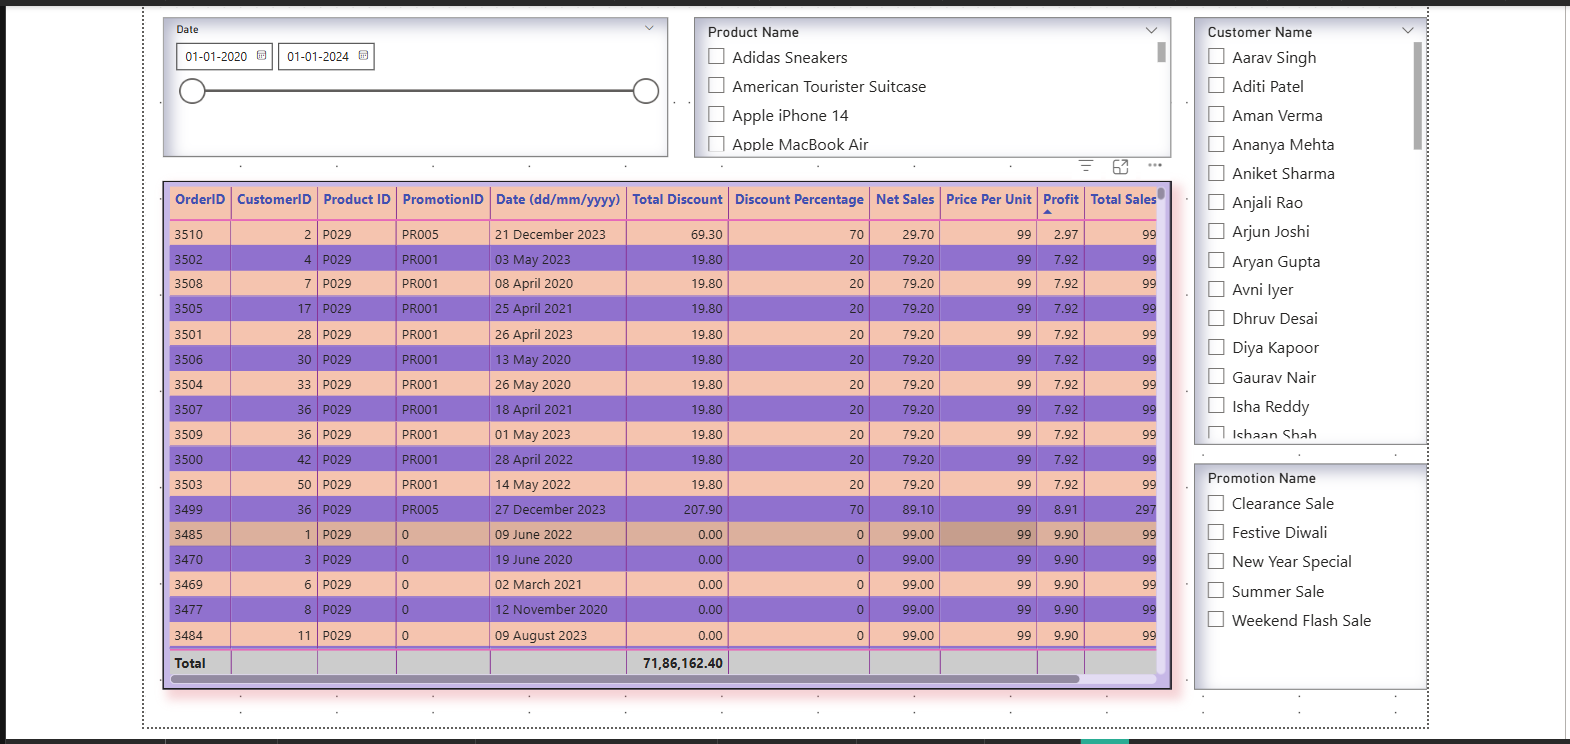

The page's visual inventory and layout, read from the dashboard file:
{"tool":"powerbi","page":{"name":"Table Chart","canvas":[1280,720],"ordinal":4},"visuals":[{"type":"tableEx","fields":{"Values":["Fact Table.OrderID","Fact Table.CustomerID","Fact Table.Product ID","Fact Table.PromotionID","Fact Table.Date (dd/mm/yyyy)","Sum(Fact Table.Discount)","Fact Table.Discount Percentage","Fact Table.Net Sales   ","Fact Table.Price Per Unit","Fact Table.Profit","Fact Table.Total Sales","Fact Table.Units Sold"]},"box":[18.7,174.5,1006.1,507.4],"z":0},{"type":"slicer","fields":{"Values":["Data Table 1.Date"]},"box":[18.1,11.1,503.7,139.1],"z":1000},{"type":"slicer","fields":{"Values":["Dim Customers.Customer Name"]},"box":[1047.3,11.2,233.1,426.4],"z":2000},{"type":"slicer","fields":{"Values":["Dim Product.Product Name"]},"box":[548.6,11.2,476.3,139.6],"z":3000},{"type":"slicer","fields":{"Values":["Dim Promotion.Promotion Name"]},"box":[1047.3,456.3,233.1,225.7],"z":4000}]}

Visuals, with their boxes on the page's 1280x720 design canvas (x1, y1, x2, y2). These are canvas units, not pixel positions in the 1570x744 screenshot, which may show the page scaled, cropped or inside an application window:
tableEx - Fact Table.OrderID x Fact Table.CustomerID: 19 174 1025 682
slicer - Data Table 1.Date: 18 11 522 150
slicer - Dim Customers.Customer Name: 1047 11 1280 438
slicer - Dim Product.Product Name: 549 11 1025 151
slicer - Dim Promotion.Promotion Name: 1047 456 1280 682
